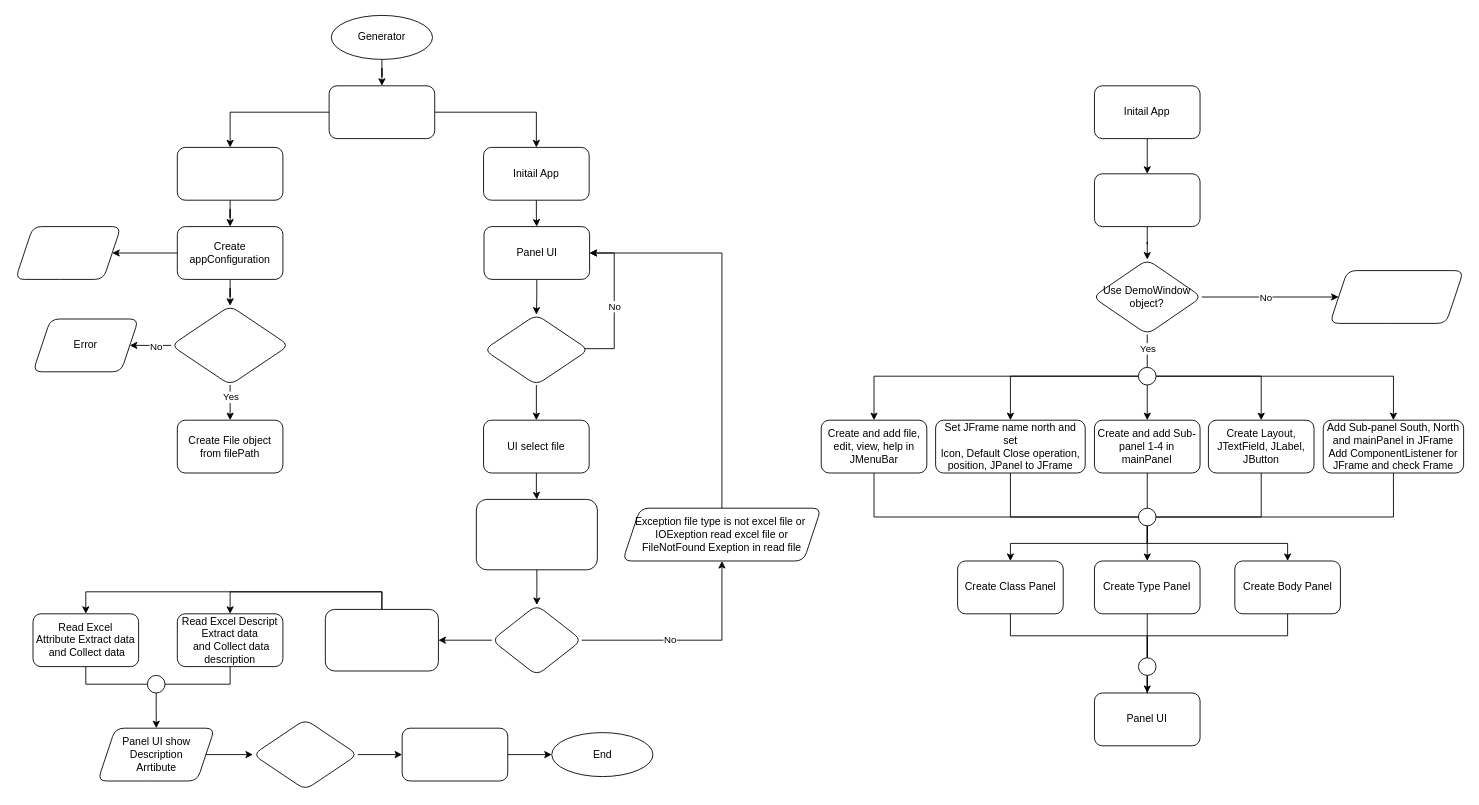
Some shapes in this 1479 by 805 pixel diagram are drawn without their labels. Here are the shapes that lost their labels. From the top down, the box of each, then its label:
(328, 85, 435, 139): InitailComponent
(176, 147, 283, 200): Initail Configuration
(1094, 173, 1200, 227): Create DemoWindow object
(15, 226, 121, 279): Instance
(1329, 270, 1464, 323): Don't use DemoWindow object
(170, 305, 289, 385): Instance == null (can rend config?)
(483, 314, 589, 385): Click Select file?
(475, 499, 597, 570): Get path of file, set path excelpath and sendpath to readExcel() and return path
(324, 609, 438, 671): Read file excel: Make readExcellDescript get path of getPath()
(491, 604, 582, 675): readExcel get path?
(252, 719, 358, 790): Click Generate?
(401, 727, 508, 781): Generate Class
